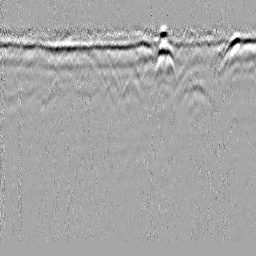cavity: (119, 74, 141, 104)
